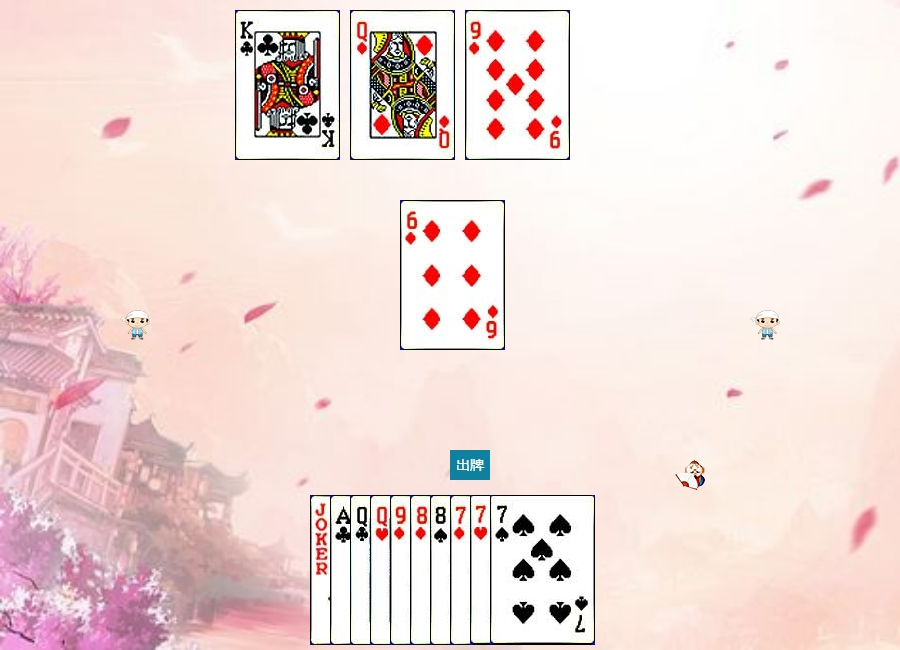12~1: (350, 10, 455, 160)
12~2: (350, 495, 455, 645)
12~3: (370, 495, 475, 645)
13~2: (235, 10, 340, 160)
14~2: (330, 495, 435, 645)
18~4: (310, 495, 415, 645)
6~1: (400, 200, 505, 350)
7~1: (450, 495, 555, 645)
7~3: (470, 495, 575, 645)
7~4: (490, 495, 595, 645)
8~1: (410, 495, 515, 645)
8~4: (430, 495, 535, 645)
9~1: (465, 10, 570, 160), (390, 495, 495, 645)
